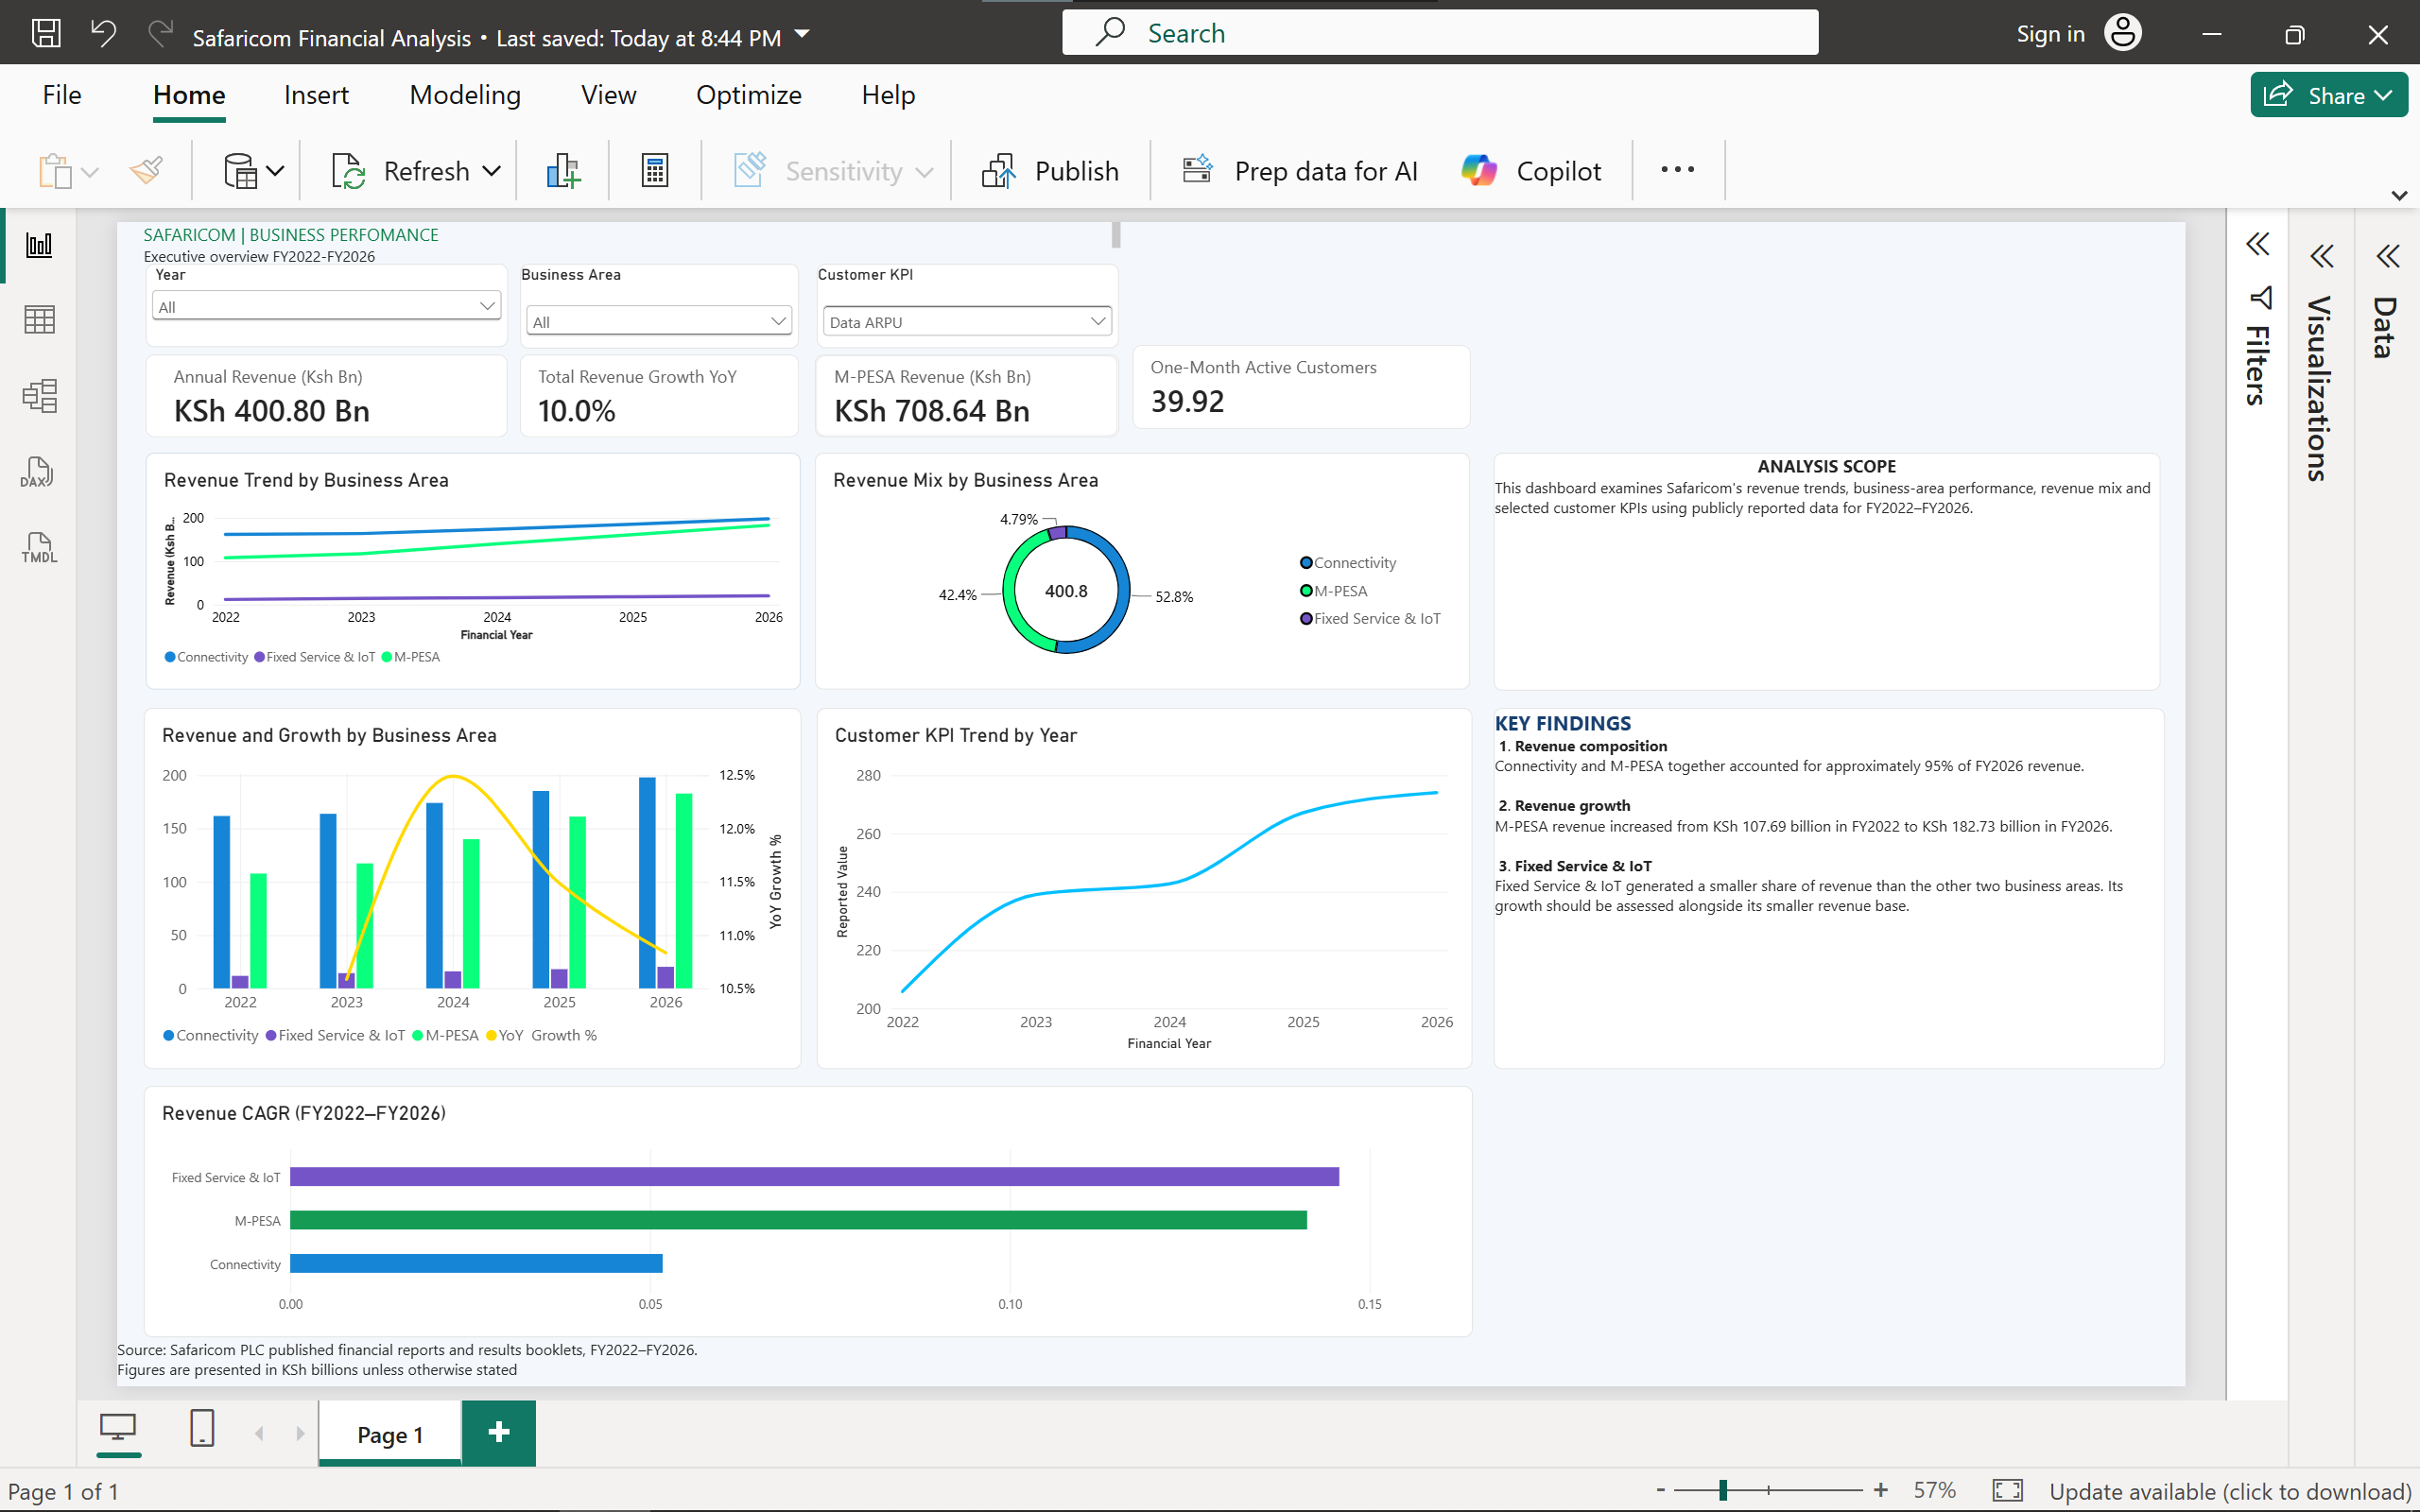

The dashboard page shown, as its layout file describes it:
{"tool":"powerbi","page":{"name":"Page 1","canvas":[1920,1080],"ordinal":0},"visuals":[{"type":"lineChart","title":"Revenue Trend by Business Area","fields":{"Category":["Revenue.Year"],"Series":["Revenue.Business_Area"],"Y":["Sum(Revenue.Revenue_KSh_Bn)"]},"box":[26,214,608,220],"z":0},{"type":"slicer","title":"Business Area","fields":{"Values":["Revenue.Business_Area"]},"box":[373.4,38.3,259.1,79],"z":1000},{"type":"slicer","fields":{"Values":["Revenue.Year"]},"box":[25.5,38.3,336.4,77.3],"z":2000},{"type":"cardVisual","fields":{"Data":["Revenue.Annual Revenue"]},"box":[25.5,123.4,336.4,77.3],"z":3000},{"type":"cardVisual","fields":{"Data":["Revenue.Total Revenue Growth YoY"]},"box":[373.4,123.4,259.6,77.2],"z":4000},{"type":"lineClusteredColumnComboChart","title":"Revenue and Growth by Business Area","fields":{"Category":["Revenue.Year"],"Series":["Revenue.Business_Area"],"Y":["Sum(Revenue.Revenue_KSh_Bn)"],"Y2":["Avg(Revenue.YoY  Growth %)"]},"box":[25,450,610.4,335.4],"z":5000},{"type":"donutChart","title":"Revenue Mix by Business Area","fields":{"Category":["Revenue.Business_Area"],"Y":["Sum(Revenue.Revenue_KSh_Bn)"]},"box":[648,214,608,220],"z":6000},{"type":"lineChart","title":"Customer KPI Trend by Year","fields":{"Category":["Customer_KPI.Year"],"Y":["Avg(Customer_KPI.Value)"]},"box":[650,450,608.3,335.4],"z":7000},{"type":"textbox","box":[1277.1,214.6,618.8,220.8],"z":8000},{"type":"textbox","box":[25,0,906.2,37.5],"z":9000},{"type":"slicer","title":"Customer KPI","fields":{"Values":["Customer_KPI.Metric"]},"box":[648.9,38.3,280.4,78.4],"z":10000},{"type":"cardVisual","fields":{"Data":["Sum(Revenue.Revenue_KSh_Bn)"]},"box":[647.9,123.4,282.5,77.2],"z":11000},{"type":"cardVisual","fields":{"Data":["Customer_KPI.One-Month Active Customers"]},"box":[942,114.2,314.2,79],"z":12000},{"type":"textbox","box":[1277.1,450,622.9,335.4],"z":13000},{"type":"textbox","box":[0,1037.3,576.5,43.1],"z":14000},{"type":"clusteredBarChart","title":"Revenue CAGR (FY2022–FY2026)","fields":{"Category":["CAGR.Business Area"],"Y":["Avg(CAGR.CAGR)"]},"box":[25,802.1,1233.3,233.3],"z":14001}]}

Visuals, with their boxes on the page's 1920x1080 design canvas (x1, y1, x2, y2). These are canvas units, not pixel positions in the 2420x1512 screenshot, which may show the page scaled, cropped or inside an application window:
"Revenue Trend by Business Area" lineChart: Rect(26, 214, 634, 434)
"Business Area" slicer: Rect(373, 38, 632, 117)
slicer - Revenue.Year: Rect(26, 38, 362, 116)
cardVisual - Revenue.Annual Revenue: Rect(26, 123, 362, 201)
cardVisual - Revenue.Total Revenue Growth YoY: Rect(373, 123, 633, 201)
"Revenue and Growth by Business Area" lineClusteredColumnComboChart: Rect(25, 450, 635, 785)
"Revenue Mix by Business Area" donutChart: Rect(648, 214, 1256, 434)
"Customer KPI Trend by Year" lineChart: Rect(650, 450, 1258, 785)
textbox: Rect(1277, 215, 1896, 435)
textbox: Rect(25, 0, 931, 38)
"Customer KPI" slicer: Rect(649, 38, 929, 117)
cardVisual - Sum(Revenue.Revenue_KSh_Bn): Rect(648, 123, 930, 201)
cardVisual - Customer_KPI.One-Month Active Customers: Rect(942, 114, 1256, 193)
textbox: Rect(1277, 450, 1900, 785)
textbox: Rect(0, 1037, 576, 1080)
"Revenue CAGR (FY2022–FY2026)" clusteredBarChart: Rect(25, 802, 1258, 1035)
